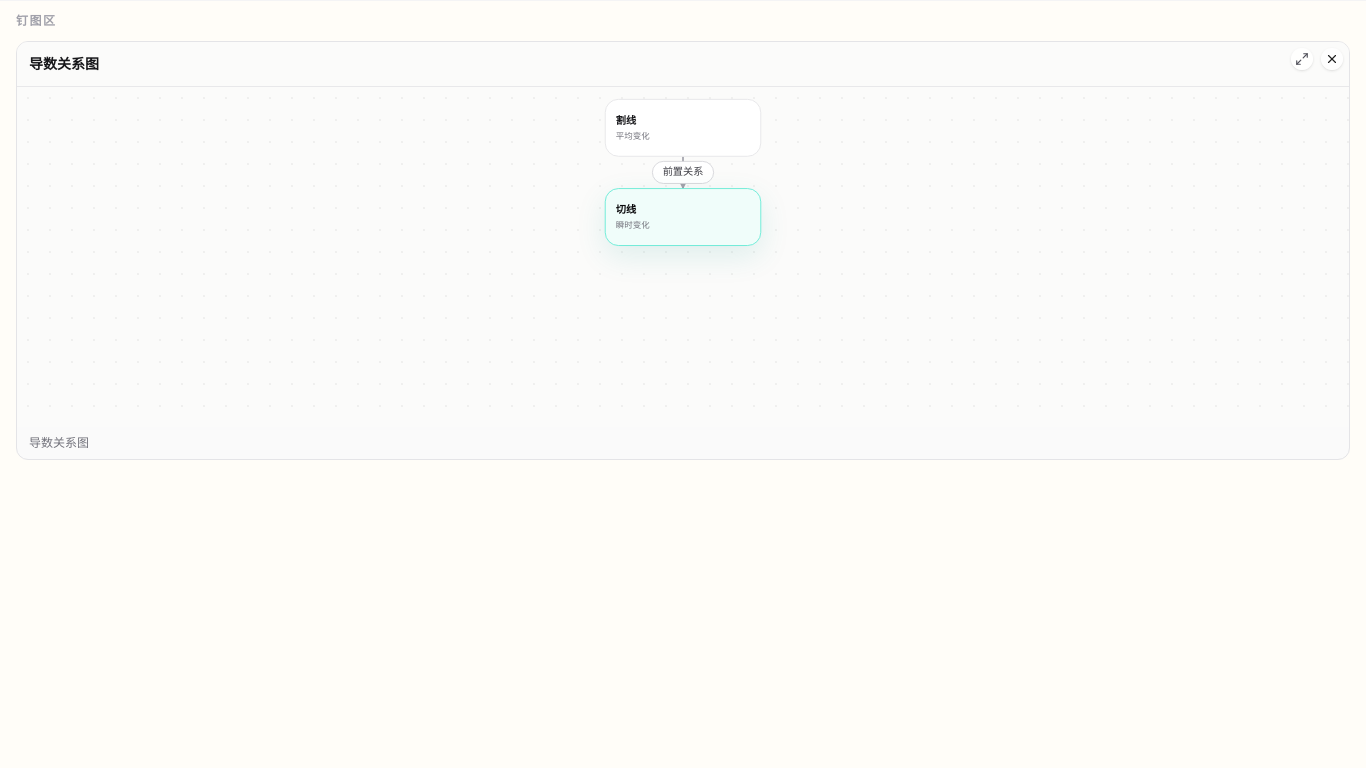
PinnedImages › renders typed diagrams as interactive pinned visuals
Expected: the number of headings "导数关系图" is 2, x1=29 y1=54 x2=99 y2=74; x1=29 y1=434 x2=89 y2=451
Click the button with aria-label "切线：瞬时变化".
click(683, 217)  # box x1=605 y1=188 x2=761 y2=246
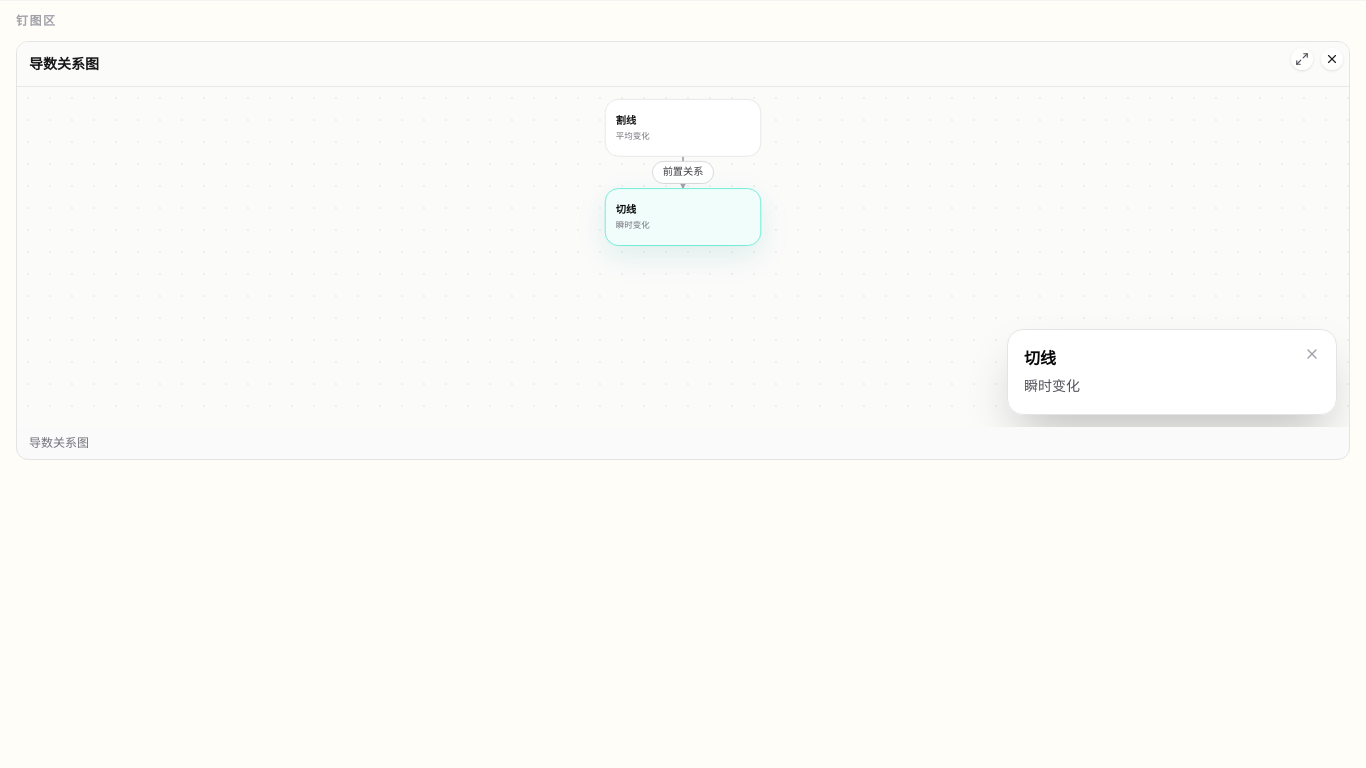
Expected: the dialog "切线" is shown, x1=1007 y1=329 x2=1337 y2=415
Click the button named "放大查看".
click(1302, 59)  # box x1=1291 y1=48 x2=1313 y2=70
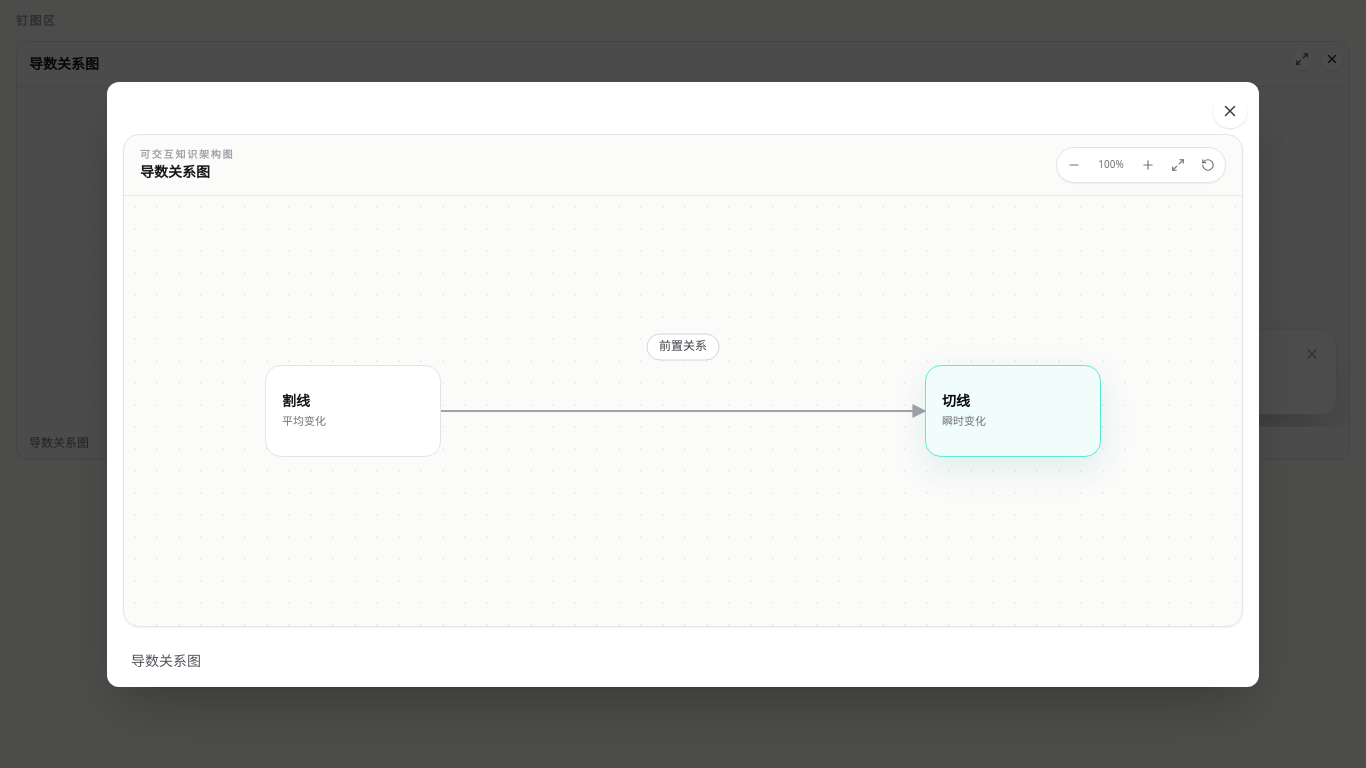
Expected: the button named "关闭大图" is shown, x1=1213 y1=94 x2=1247 y2=128
